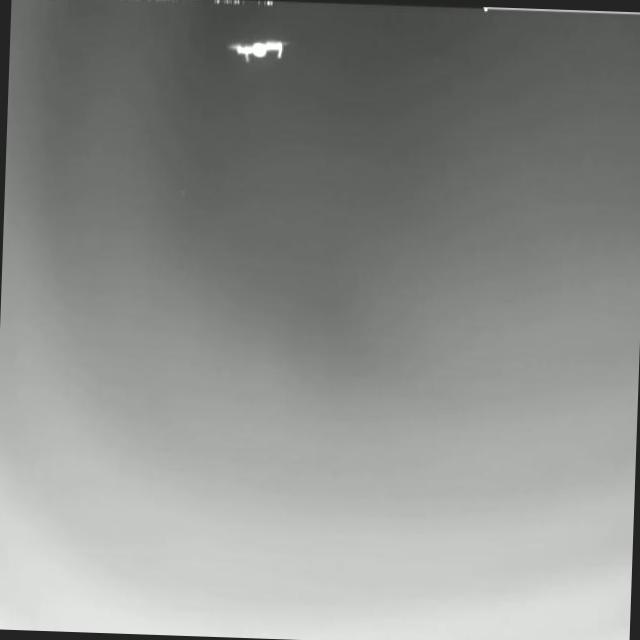DRONE: (222, 37, 293, 64)
